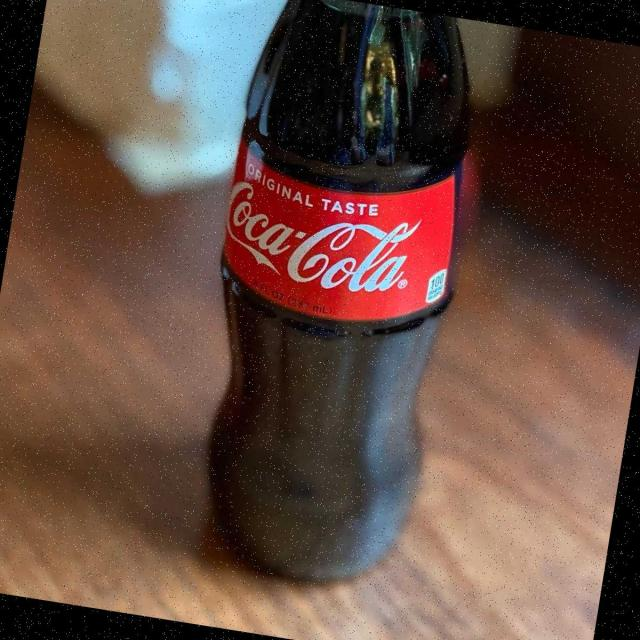coca-cola: (159, 0, 503, 599)
